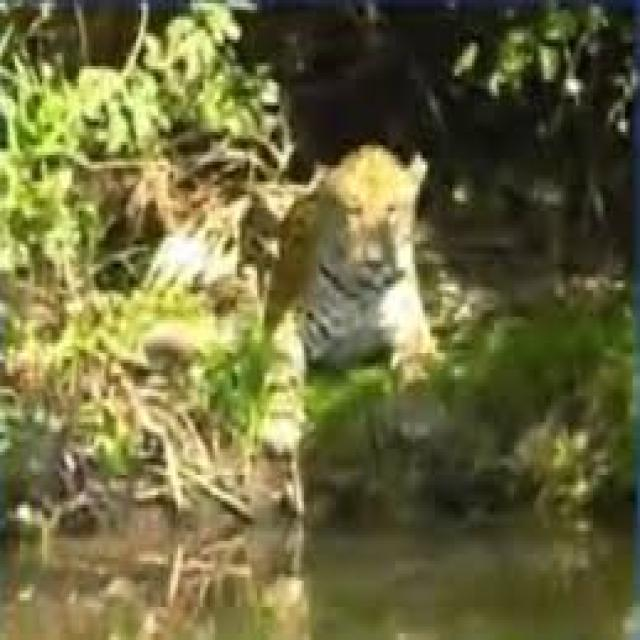Jaguar: (264, 168, 445, 429)
